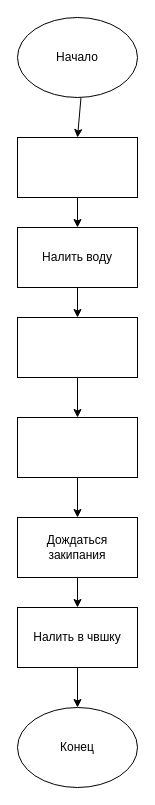
The diagram is 155 pixels wide and 805 high, and some of its shapes have lost their labels. Here are the shapes that lost their labels. From the top down, the centre of each, then its label:
the point at 77,167: Взять чайник
the point at 77,347: Поставить на плиту
the point at 77,447: Включить плиту
